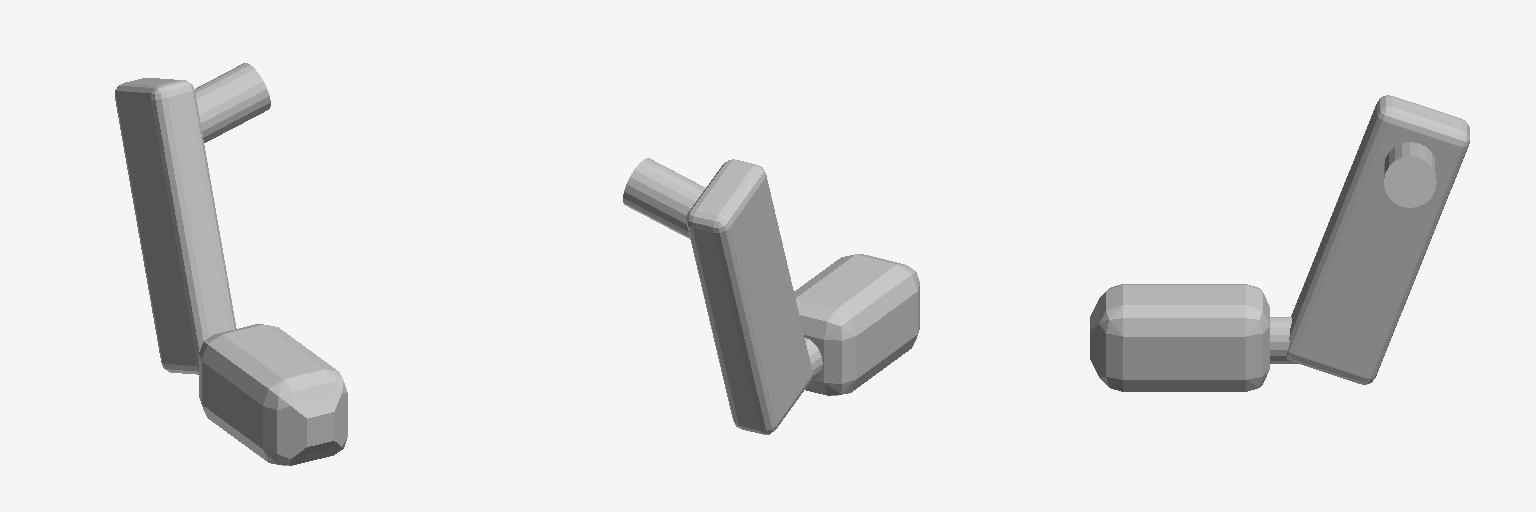
Rendered from Drone_rightarm.obj.
3 renders of one model, left to right at view 1: azimuth 30°, elevation 25°; view 2: azimuth 150°, elevation 25°; view 3: azimuth 270°, elevation 25°, orthographic.
Parts seen in each view (by area): view 1: Left_Shoulder Left_Arm1 Core Left_Upper_Arm, Left_Shoulder Left_Arm1 Core Left_Upper_Arm Left_Elbow Left_Hand, Left_Shoulder Left_Arm1 Core; view 2: Left_Shoulder Left_Arm1 Core Left_Upper_Arm, Left_Shoulder Left_Arm1 Core Left_Upper_Arm Left_Elbow Left_Hand, Left_Shoulder Left_Arm1 Core; view 3: Left_Shoulder Left_Arm1 Core Left_Upper_Arm, Left_Shoulder Left_Arm1 Core Left_Upper_Arm Left_Elbow Left_Hand, Left_Shoulder Left_Arm1 Core, Left_Shoulder Left_Arm1 Core Left_Upper_Arm Left_Elbow.
Boxes of the visible parts, x1,y1,x2,y2 form: Left_Shoulder Left_Arm1 Core Left_Upper_Arm: [115, 78, 236, 374]; Left_Shoulder Left_Arm1 Core Left_Upper_Arm Left_Elbow Left_Hand: [199, 324, 347, 465]; Left_Shoulder Left_Arm1 Core: [195, 63, 270, 142]; Left_Shoulder Left_Arm1 Core Left_Upper_Arm: [686, 159, 812, 434]; Left_Shoulder Left_Arm1 Core Left_Upper_Arm Left_Elbow Left_Hand: [794, 254, 919, 395]; Left_Shoulder Left_Arm1 Core: [623, 158, 705, 238]; Left_Shoulder Left_Arm1 Core Left_Upper_Arm: [1286, 95, 1469, 384]; Left_Shoulder Left_Arm1 Core Left_Upper_Arm Left_Elbow Left_Hand: [1090, 284, 1269, 391]; Left_Shoulder Left_Arm1 Core: [1384, 142, 1436, 207]; Left_Shoulder Left_Arm1 Core Left_Upper_Arm Left_Elbow: [1270, 317, 1297, 363].
Size of the model in its own units: 1.73 by 3.24 by 3.98.